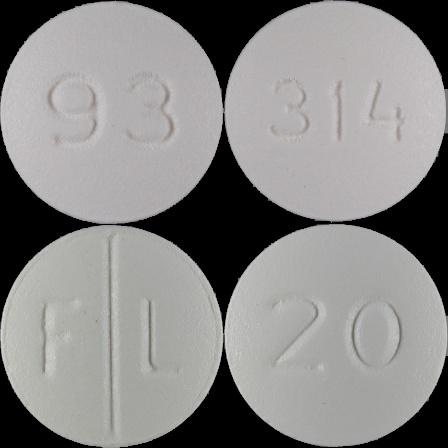63629-2974: (0, 0, 224, 224)
